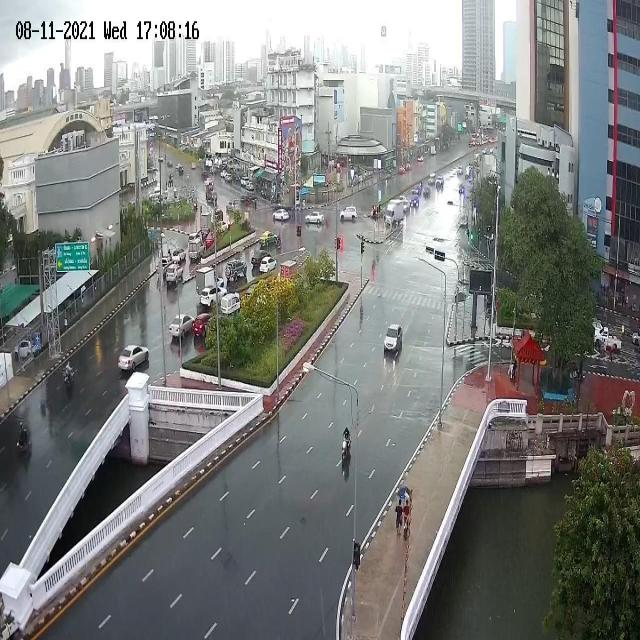Car: (198, 282, 228, 311), (119, 340, 148, 369), (223, 255, 250, 283), (169, 309, 193, 340), (382, 324, 403, 356), (192, 313, 213, 341), (258, 226, 279, 252), (166, 263, 185, 290), (338, 200, 358, 222), (187, 238, 204, 262), (259, 256, 276, 277), (270, 207, 291, 224), (304, 209, 326, 225), (251, 249, 268, 267), (171, 245, 187, 263), (434, 174, 446, 191), (408, 194, 420, 210), (217, 219, 228, 233), (213, 207, 223, 221), (239, 176, 250, 186), (156, 153, 164, 165), (246, 182, 253, 192)
Cycle: (338, 425, 356, 466)
Truck: (195, 263, 217, 295), (385, 200, 403, 230), (280, 260, 300, 282), (199, 210, 211, 238)
Van: (220, 294, 243, 319)
